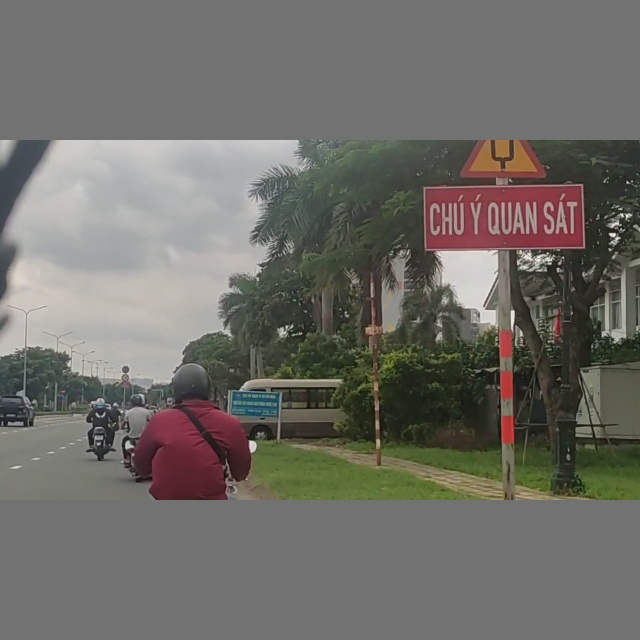P.102: (60, 389, 67, 394)
P.130: (121, 365, 130, 373)
R.302a: (61, 394, 66, 399)
W.246a: (461, 141, 547, 180)
